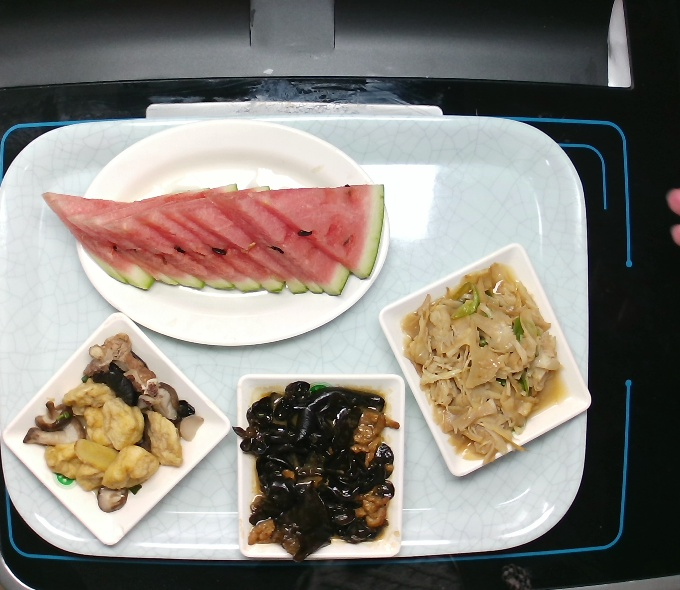wcq-LuSun: (397, 262, 582, 474)
wcq-MuErChaoRou: (229, 378, 407, 562)
wcq-XiGua: (31, 171, 395, 302)
wcq-YouPaoPaiGu: (25, 328, 206, 522)
